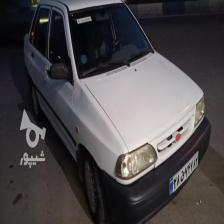plate: (168, 149, 199, 196)
